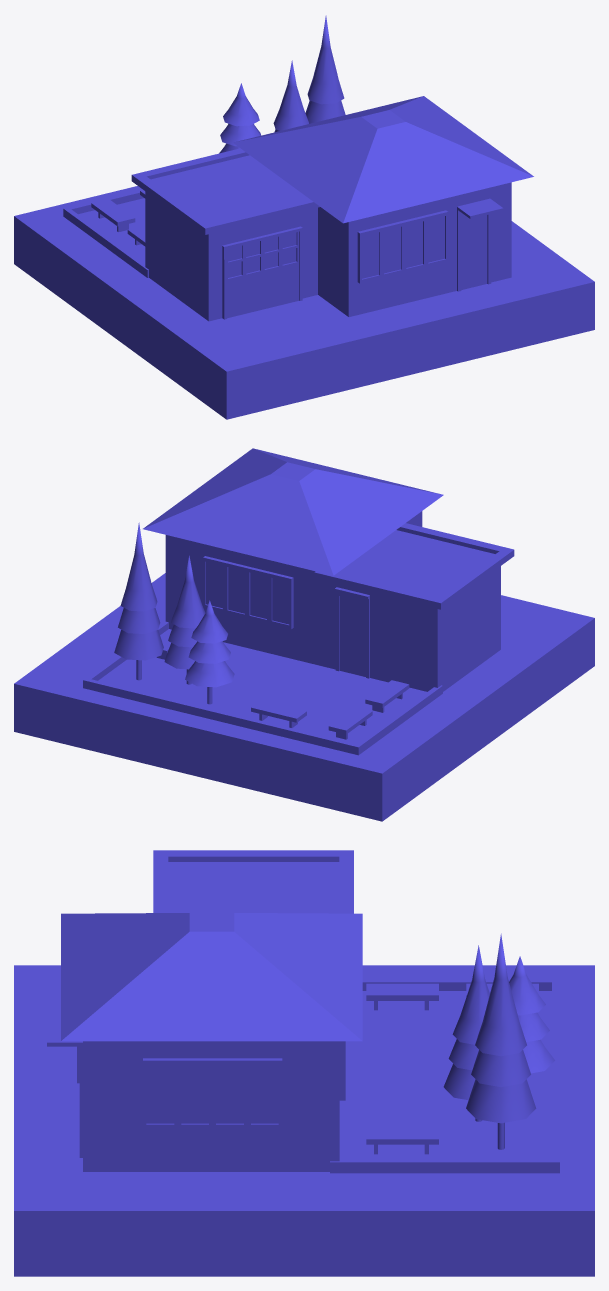
The model's file is house_blueprint.fbx.
The picture shows the model from 3 angles, top to bottom: view 1: azimuth 30°, elevation 25°; view 2: azimuth 150°, elevation 25°; view 3: azimuth 270°, elevation 25°; orthographic projection. The views are drawn at different scales.
Parts seen in each view (by area): view 1: House_Small_BluePrint; view 2: House_Small_BluePrint; view 3: House_Small_BluePrint.
Boxes of the visible parts, bbox=[...] form: House_Small_BluePrint: bbox=[14, 15, 594, 419]; House_Small_BluePrint: bbox=[14, 448, 594, 821]; House_Small_BluePrint: bbox=[14, 850, 594, 1276].
Bounding box in the file's own units: 147 × 78.99 × 147.
